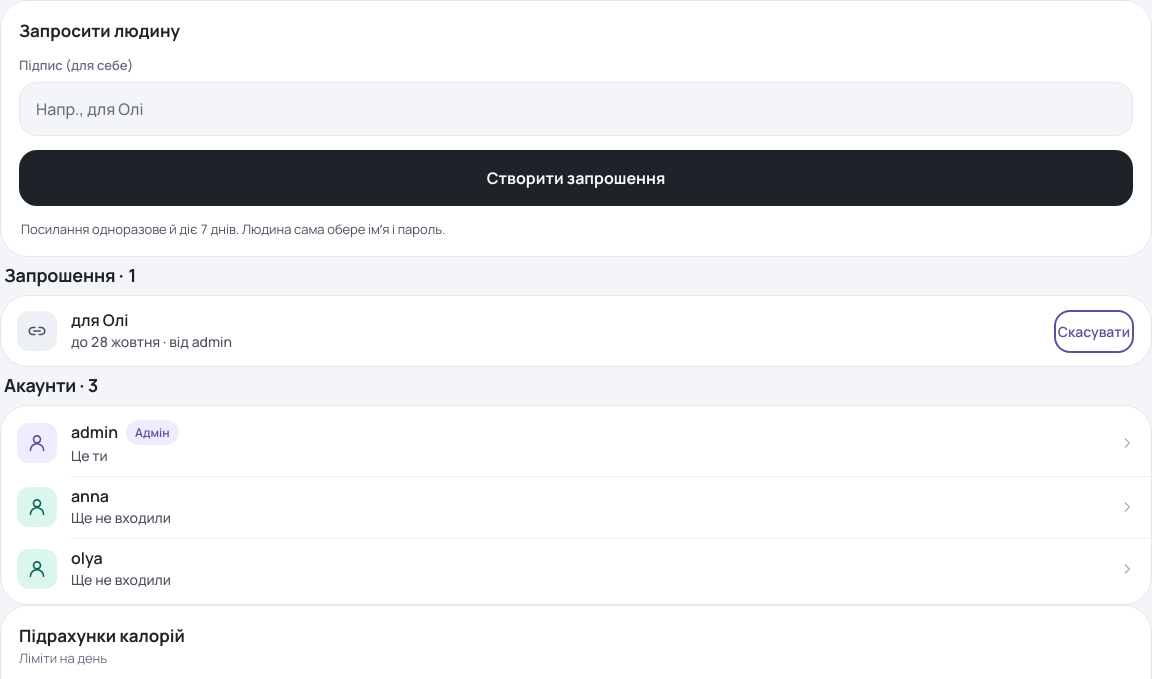
it: pending invites › keeps the place: the focus never drops to <body> › moves to «Акаунти · N» when the last pending invite is gone (its whole list is)
Click the button with aria-label "Скасувати запрошення «для Олі»".
click(1094, 331)  # box x1=1058 y1=314 x2=1130 y2=348
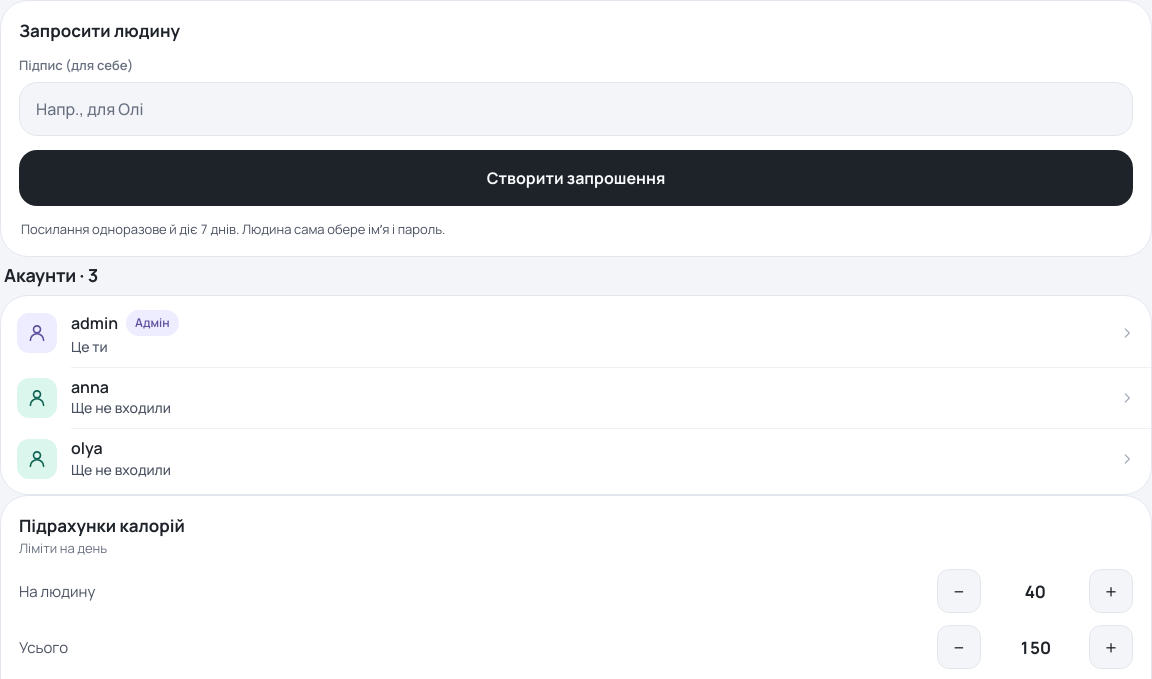
expect the heading "Запрошення · " is gone: met
